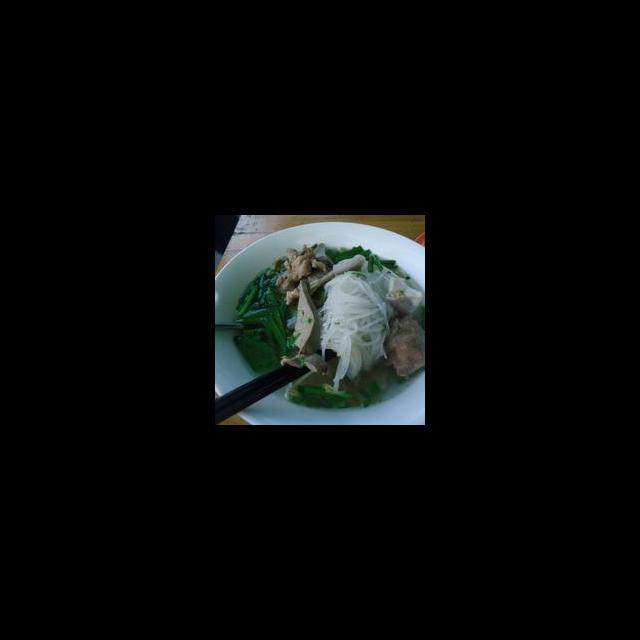banh hu tieu: (315, 254, 397, 392)
gan: (289, 277, 323, 358)
